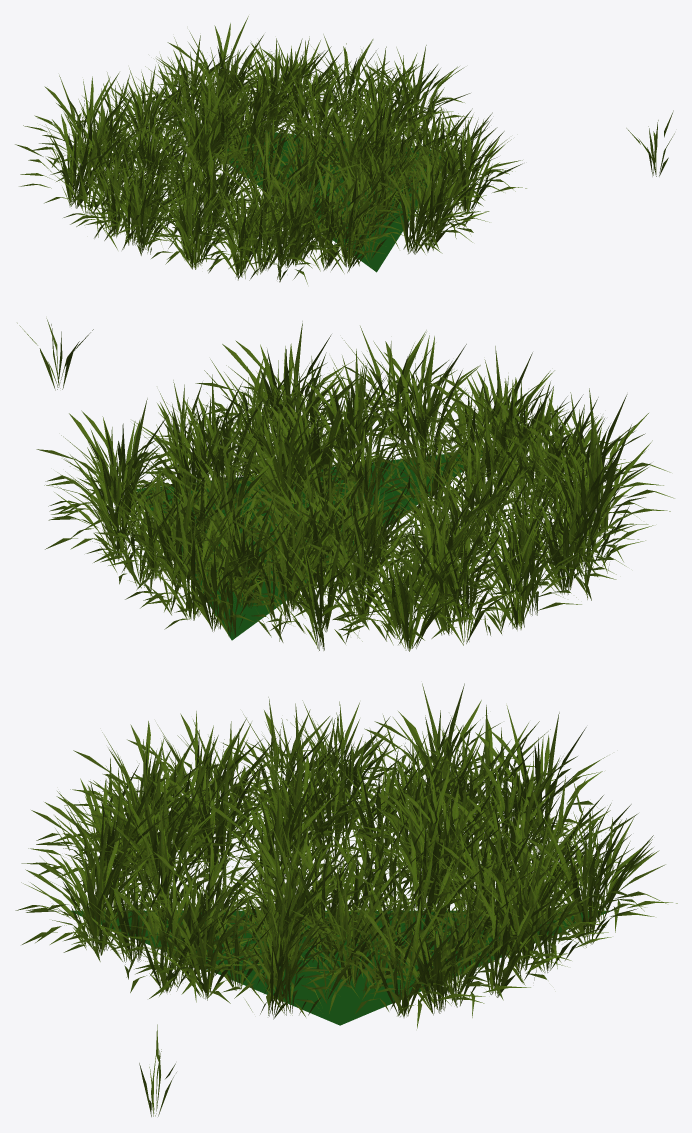
File: Grass_Optimized.FBX
The picture shows the model from 3 angles, top to bottom: view 1: azimuth 30°, elevation 25°; view 2: azimuth 150°, elevation 25°; view 3: azimuth 270°, elevation 25°; orthographic projection. The views are drawn at different scales.
Visible parts, largest first — view 1: grass_massive, Circle001, grass_01; view 2: grass_massive, Circle001, grass_01; view 3: grass_massive, Circle001.
Part boxes in pixels (box(x1,y1,x2,y2)): grass_massive: box(15, 16, 526, 284); Circle001: box(172, 120, 445, 272); grass_01: box(626, 110, 674, 176); grass_massive: box(36, 321, 674, 651); Circle001: box(136, 450, 482, 640); grass_01: box(17, 318, 93, 390); grass_massive: box(15, 683, 677, 1028); Circle001: box(71, 910, 609, 1025).
Size of the model in its own units: 65.07 by 10.89 by 51.56.
Materials: 2 (1 with a texture image).
